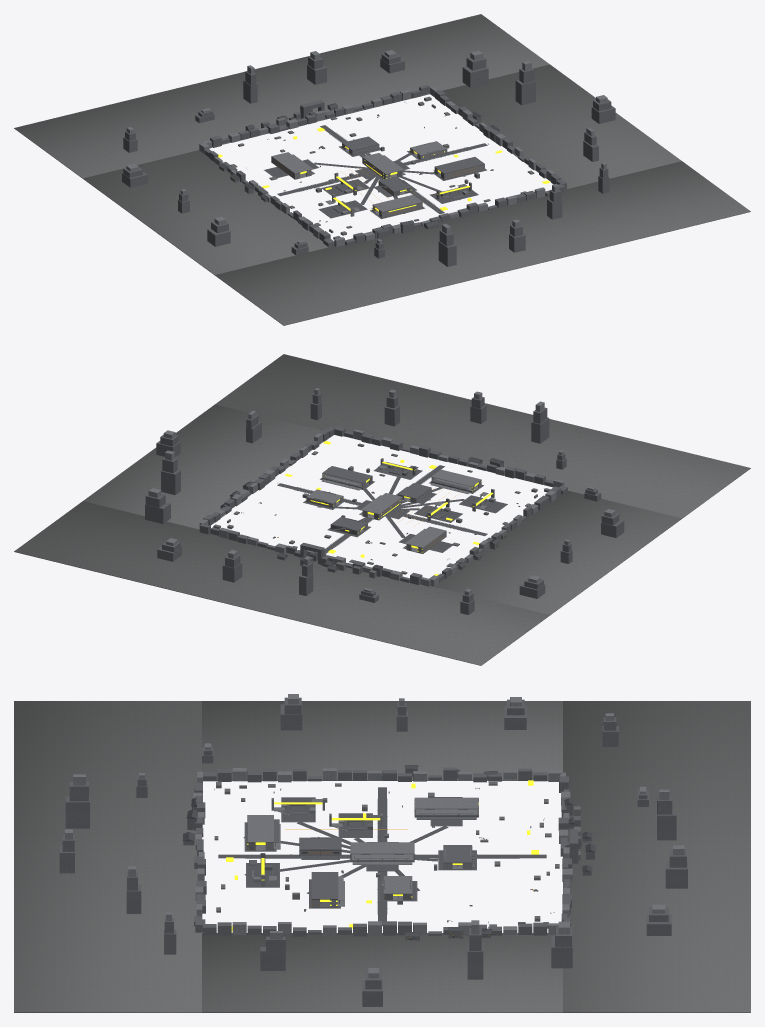
3 views of the same model, one above another, from view 1: azimuth 30°, elevation 25°; view 2: azimuth 150°, elevation 25°; view 3: azimuth 270°, elevation 25° (orthographic). The views are drawn at different scales.
Parts seen in each view (by area): view 1: HB_z07_LOD1_terrain, HB_z07_LOD1_wall_alt, HB_z07_LOD1_wall, HB_z07_LOD1_road, HB_z07_LOD1_obstacle, HB_z07_LOD1_trim, HB_z07_LOD1_emissive; view 2: HB_z07_LOD1_terrain, HB_z07_LOD1_wall_alt, HB_z07_LOD1_wall, HB_z07_LOD1_road, HB_z07_LOD1_obstacle, HB_z07_LOD1_trim, HB_z07_LOD1_emissive; view 3: HB_z07_LOD1_terrain, HB_z07_LOD1_wall_alt, HB_z07_LOD1_wall, HB_z07_LOD1_road, HB_z07_LOD1_obstacle, HB_z07_LOD1_trim, HB_z07_LOD1_emissive.
Part boxes in pixels (left/top/right/bottom): HB_z07_LOD1_terrain: left=14, top=14, right=750, bottom=325; HB_z07_LOD1_wall_alt: left=122, top=53, right=615, bottom=266; HB_z07_LOD1_wall: left=126, top=50, right=607, bottom=246; HB_z07_LOD1_road: left=264, top=125, right=487, bottom=218; HB_z07_LOD1_obstacle: left=231, top=96, right=534, bottom=239; HB_z07_LOD1_trim: left=219, top=102, right=499, bottom=232; HB_z07_LOD1_emissive: left=218, top=127, right=549, bottom=213; HB_z07_LOD1_terrain: left=14, top=354, right=750, bottom=665; HB_z07_LOD1_wall_alt: left=145, top=393, right=624, bottom=614; HB_z07_LOD1_wall: left=148, top=388, right=615, bottom=595; HB_z07_LOD1_road: left=277, top=463, right=507, bottom=553; HB_z07_LOD1_obstacle: left=213, top=443, right=550, bottom=578; HB_z07_LOD1_trim: left=220, top=457, right=544, bottom=570; HB_z07_LOD1_emissive: left=285, top=441, right=493, bottom=575; HB_z07_LOD1_terrain: left=14, top=701, right=750, bottom=1012; HB_z07_LOD1_wall_alt: left=59, top=697, right=687, bottom=1006; HB_z07_LOD1_wall: left=65, top=694, right=684, bottom=978; HB_z07_LOD1_road: left=218, top=787, right=546, bottom=925; HB_z07_LOD1_obstacle: left=214, top=781, right=580, bottom=928; HB_z07_LOD1_trim: left=182, top=765, right=595, bottom=939; HB_z07_LOD1_emissive: left=226, top=780, right=538, bottom=931.
Size of the model in its own units: 666 by 53.79 by 666.
9 materials, 7 textured.
